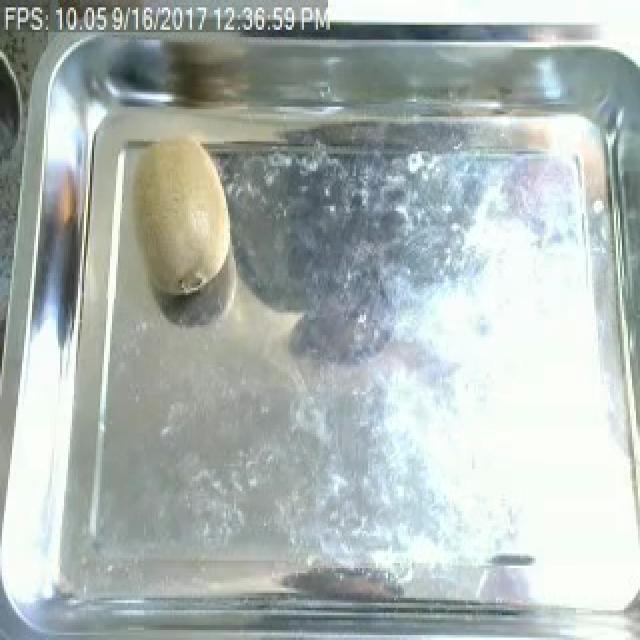Fruit: (96, 129, 242, 310)
